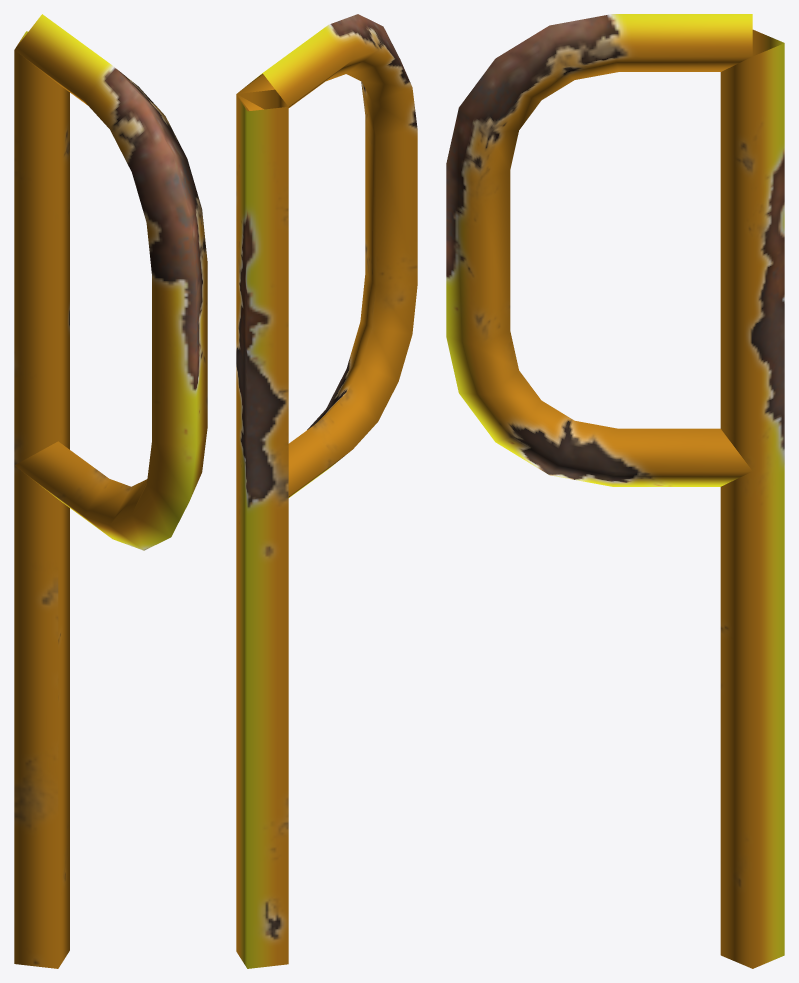
Rendered from safetyRail_end01.fbx.
The picture shows the model from 3 angles, left to right: view 1: azimuth 30°, elevation 25°; view 2: azimuth 150°, elevation 25°; view 3: azimuth 270°, elevation 25°; orthographic projection. The views are drawn at different scales.
Visible parts, largest first — view 1: safetyRail_end01; view 2: safetyRail_end01; view 3: safetyRail_end01.
Boxes of the visible parts, x1,y1,x2,y2 form: safetyRail_end01: (14,14,207,968); safetyRail_end01: (236,14,417,968); safetyRail_end01: (446,14,784,968).
Bounding box in the file's own units: 7 × 113 × 37.
